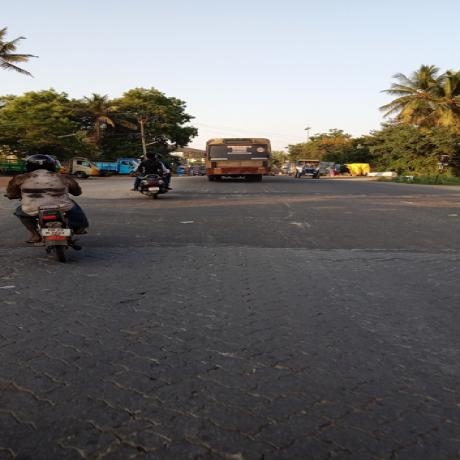Speed Bump: (171, 188, 434, 196)
